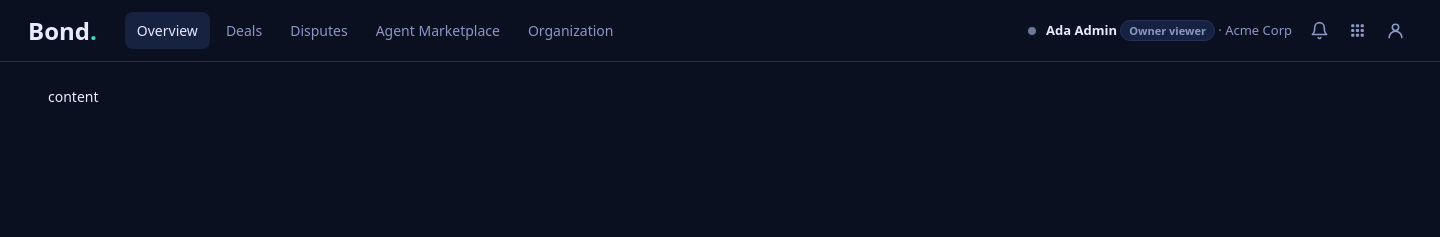
Scenario: dashboard app layout › puts Account settings in the profile menu
Click the button named "Account menu" at (1395, 30), box [1378,14,1412,48]
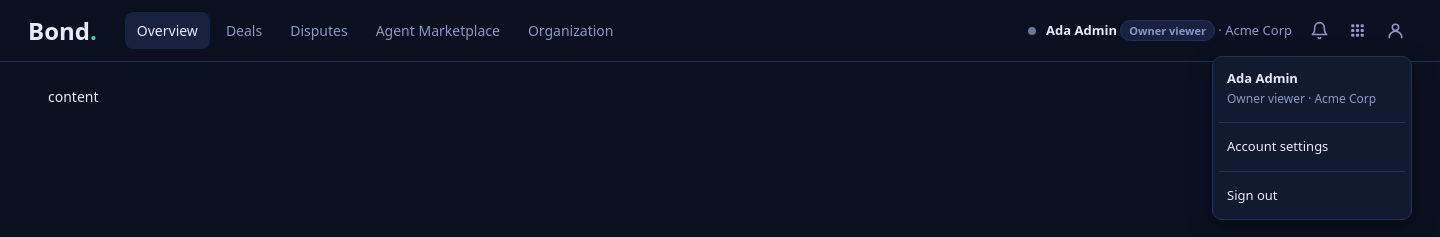
expect the button "Sign out" is shown: met, box [1219,178,1405,213]
